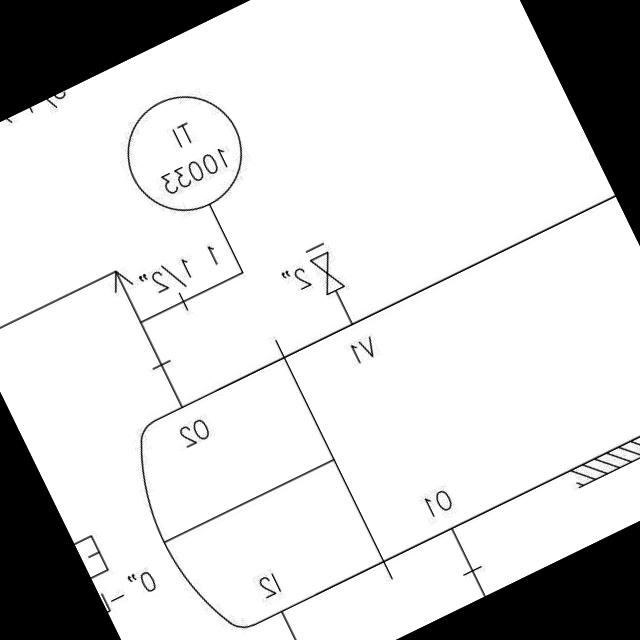GV: (304, 244, 349, 299)
